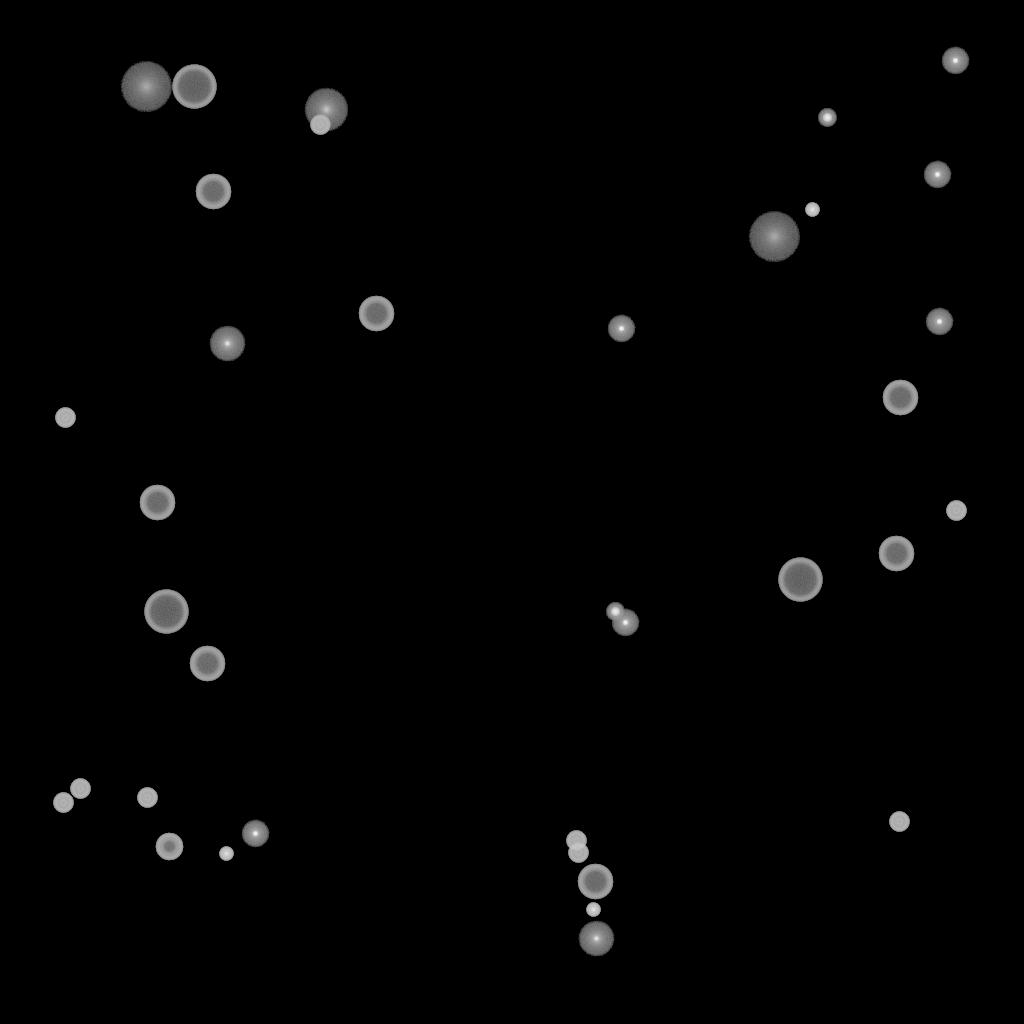depth:-10: (607, 315, 635, 343), (241, 820, 269, 848), (923, 161, 951, 189), (925, 308, 953, 336), (941, 47, 969, 75), (611, 609, 639, 637)
depth:-20: (818, 109, 836, 127), (606, 603, 624, 621)
depth:-30: (586, 903, 600, 917), (805, 203, 819, 217), (219, 847, 233, 861)
depth:-40: (70, 779, 90, 799), (137, 788, 157, 808), (55, 408, 75, 428), (946, 501, 966, 521), (889, 812, 909, 832), (53, 793, 73, 813), (568, 843, 588, 863), (566, 831, 586, 851), (310, 115, 330, 135)
depth:-50: (155, 833, 183, 861)
depth:-60: (577, 864, 613, 900), (358, 296, 394, 332), (882, 380, 918, 416), (139, 485, 175, 521), (189, 646, 225, 682), (878, 536, 914, 572), (195, 174, 231, 210)
depth:-70: (172, 65, 216, 109), (778, 558, 822, 602), (144, 590, 188, 634)
depth:0: (578, 921, 614, 957), (209, 326, 245, 362)
depth:10: (304, 88, 348, 132)
depth:20: (748, 212, 800, 262), (120, 62, 172, 112)
